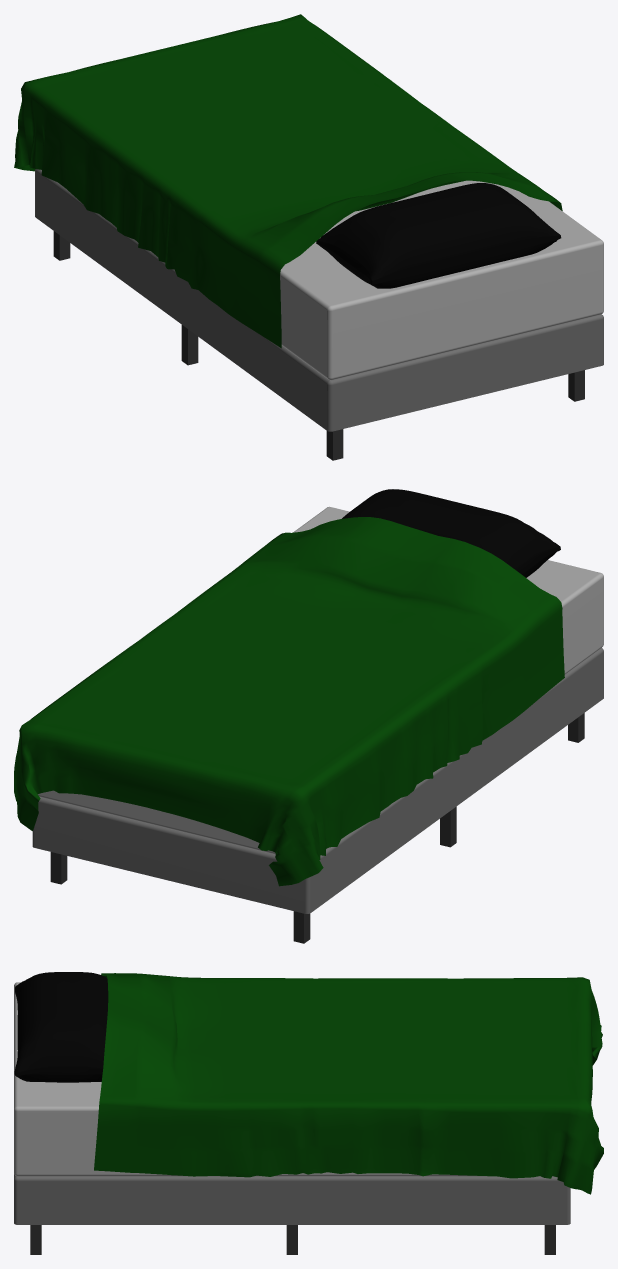
Rendered from Bed.fbx.
3 views of the same model, one above another, from view 1: azimuth 30°, elevation 25°; view 2: azimuth 150°, elevation 25°; view 3: azimuth 270°, elevation 25° (orthographic). The views are drawn at different scales.
Parts seen in each view (by area): view 1: pCube44; view 2: pCube44; view 3: pCube44.
Part boxes in pixels (box(x1,y1,x2,y2)): pCube44: box(14, 14, 603, 460); pCube44: box(14, 489, 603, 943); pCube44: box(14, 972, 603, 1254).
Bounding box in the file's own units: 7.36 × 4.8 × 12.87.
